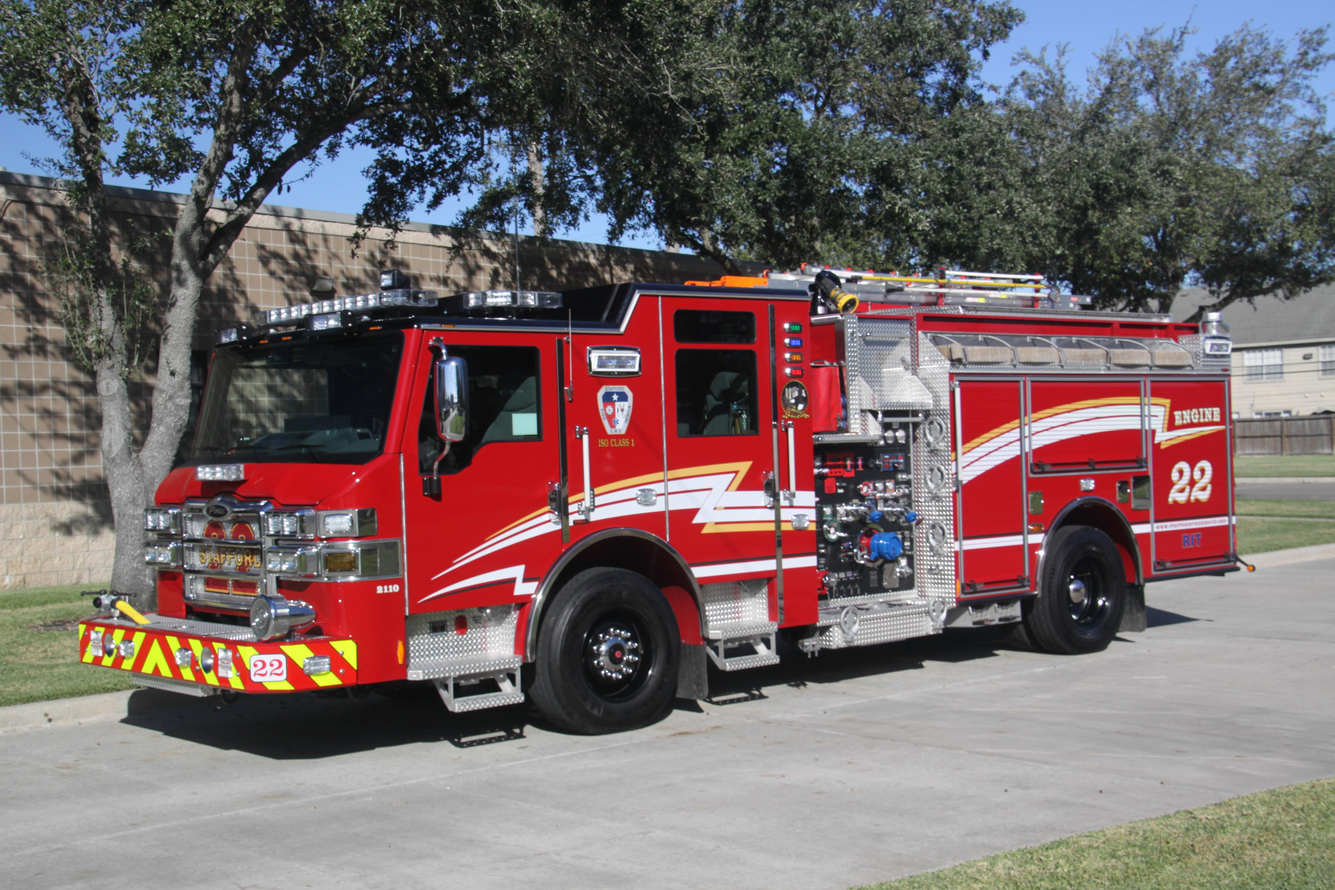Fire-engine: (77, 263, 1255, 736)
